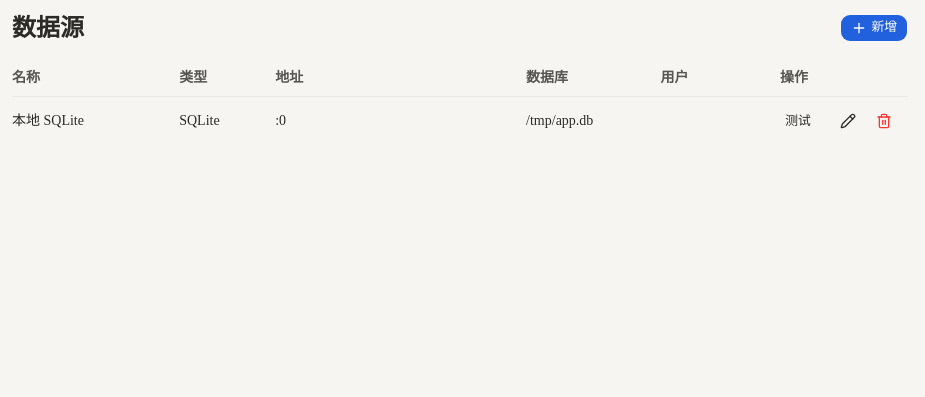
Test: DataSourcesPage › keeps SQLite edit forms file-scoped without server credential fields
Expected: the text "本地 SQLite" is shown, left=12, top=113, right=84, bottom=128
Step 1. Click the button named "编辑数据源" → (848, 121), box left=832, top=105, right=864, bottom=137
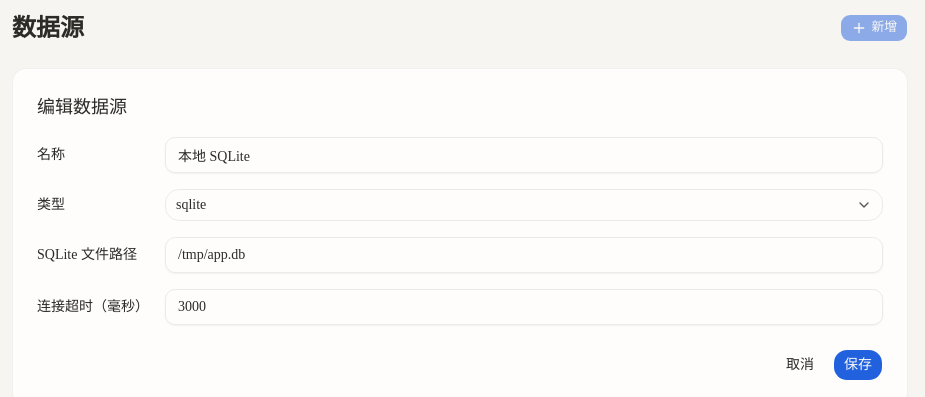
Result: the field named "SQLite 文件路径" holds "/tmp/app.db" at left=165, top=237, right=883, bottom=273
